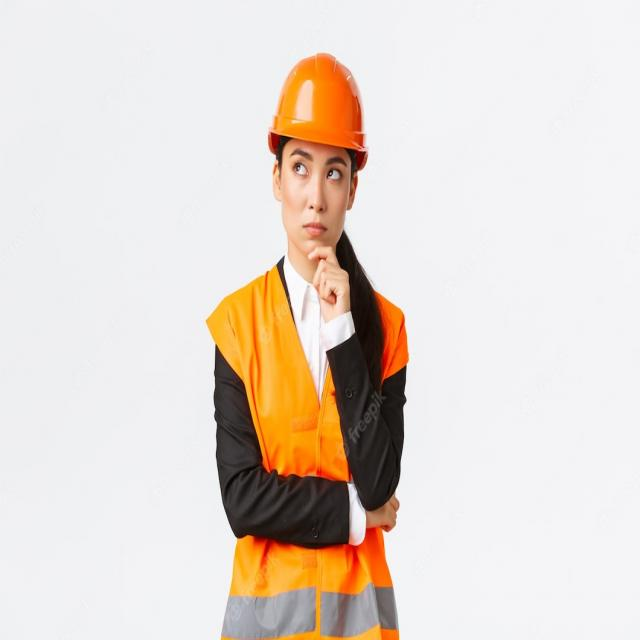Reflective-Jacket: (216, 270, 405, 636)
Safety-Helmet: (265, 46, 373, 160)
